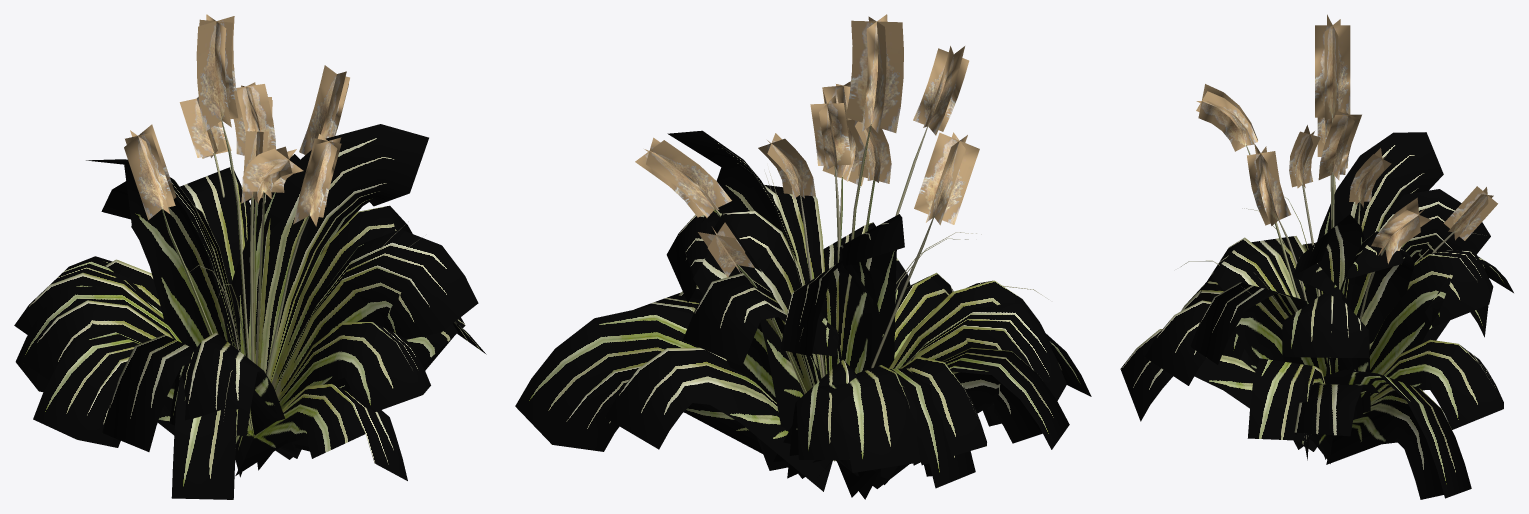
File: Pampass_Grass_Terrain.fbx
3 renders of one model, left to right at view 1: azimuth 30°, elevation 25°; view 2: azimuth 150°, elevation 25°; view 3: azimuth 270°, elevation 25°, orthographic. The views are drawn at different scales.
Visible parts, largest first — view 1: Pampass_Grass_Terrain; view 2: Pampass_Grass_Terrain; view 3: Pampass_Grass_Terrain.
Part boxes in pixels (box(x1,y1,x2,y2)): Pampass_Grass_Terrain: box(14, 14, 486, 499); Pampass_Grass_Terrain: box(515, 14, 1091, 499); Pampass_Grass_Terrain: box(1120, 14, 1513, 499).
Size of the model in its own units: 1.88 by 1.79 by 1.56.
